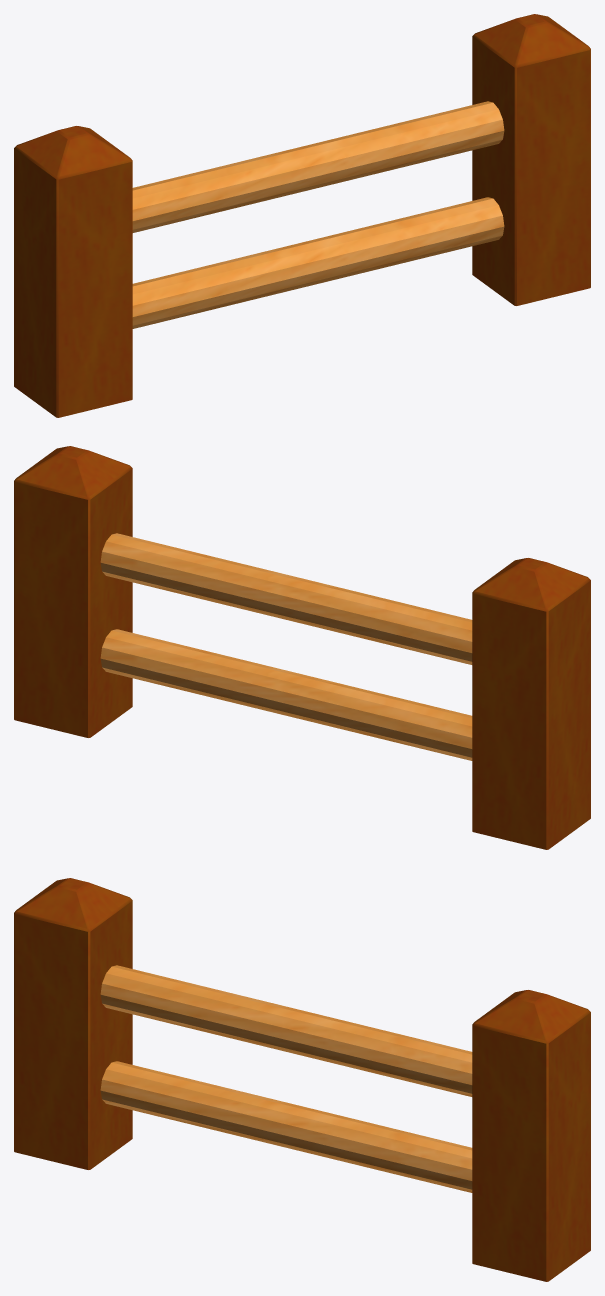
File: FenceSegment.fbx
3 views of the same model, one above another, from view 1: azimuth 30°, elevation 25°; view 2: azimuth 150°, elevation 25°; view 3: azimuth 330°, elevation 25° (orthographic).
Parts seen in each view (by area): view 1: FenceSegment; view 2: FenceSegment; view 3: FenceSegment.
Boxes of the visible parts, <box> form: FenceSegment: <box>14,14,590,417</box>; FenceSegment: <box>14,446,590,849</box>; FenceSegment: <box>14,878,590,1281</box>.
Size of the model in its own units: 7 by 3.27 by 1.
